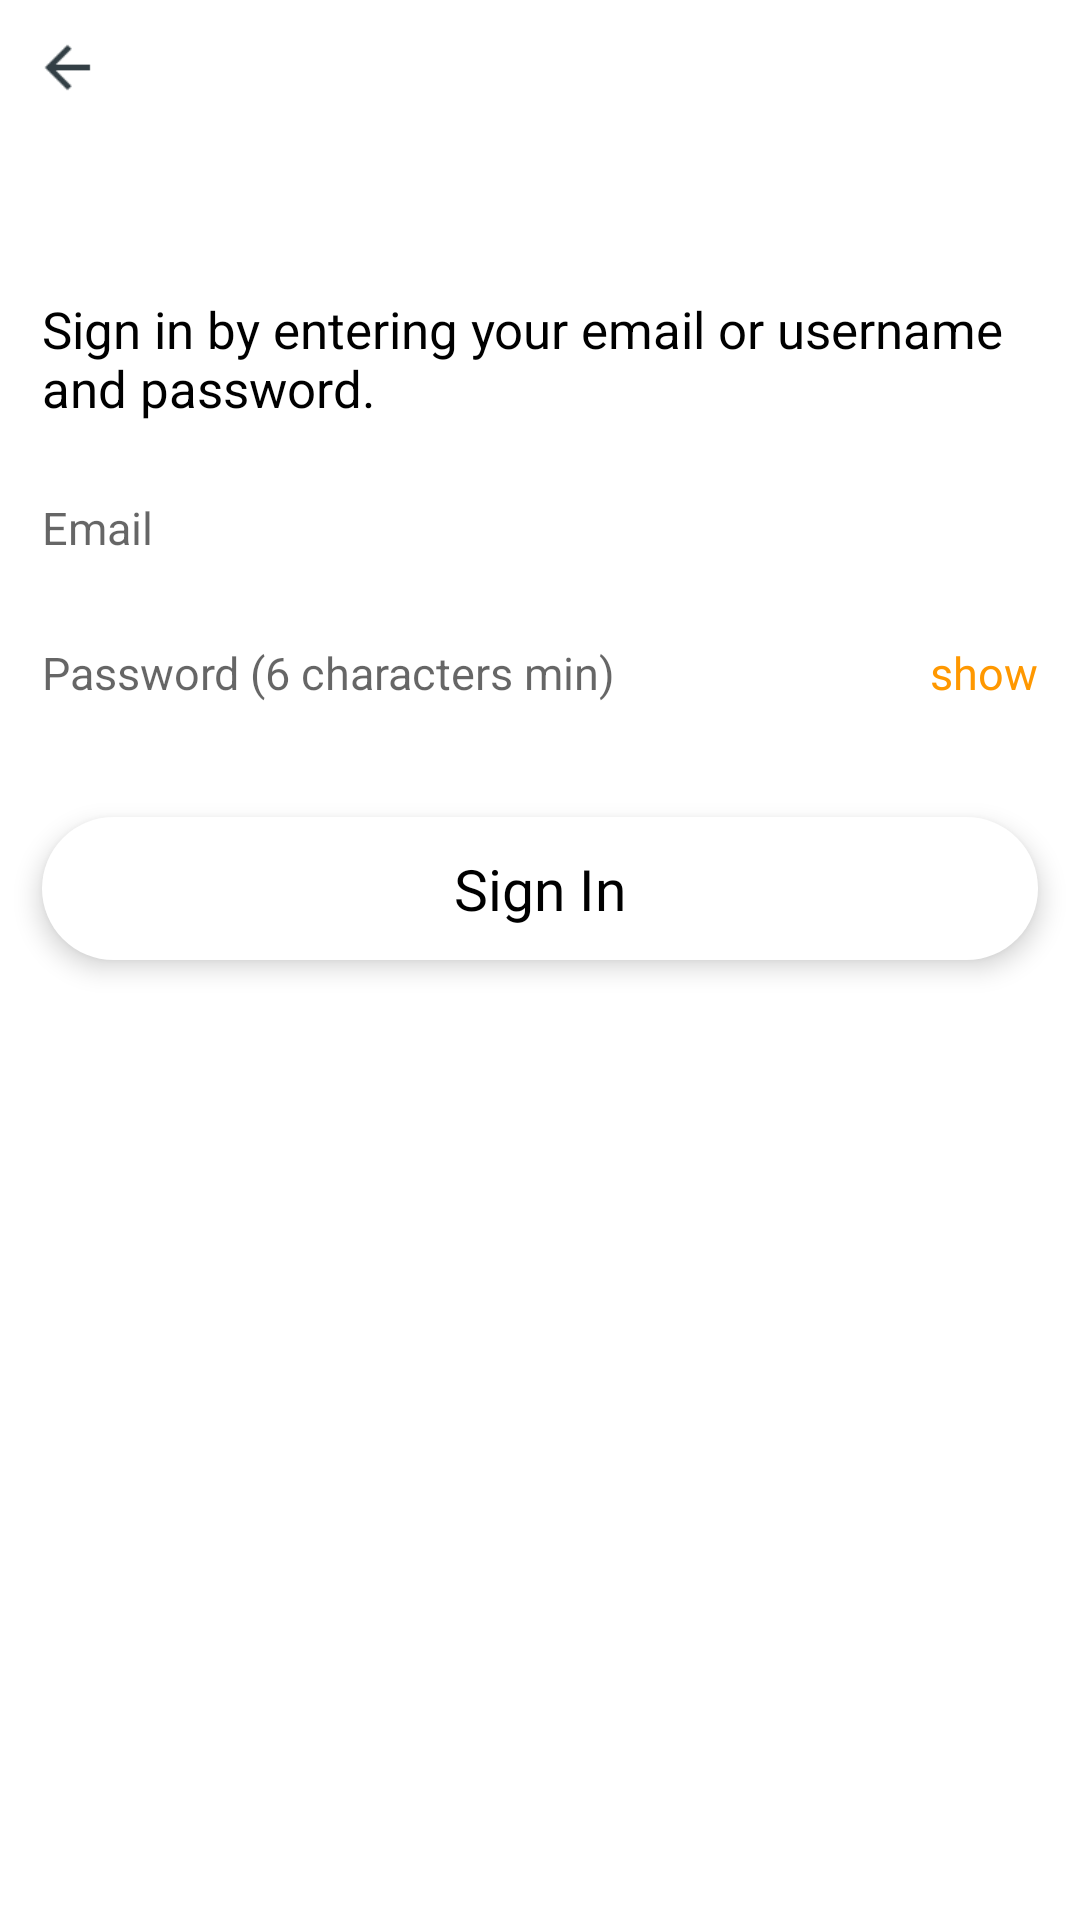

Point at icon controls on the screen. Image size 1080 × 1920, points as point (x, y).
arrow left: point (68, 67)
